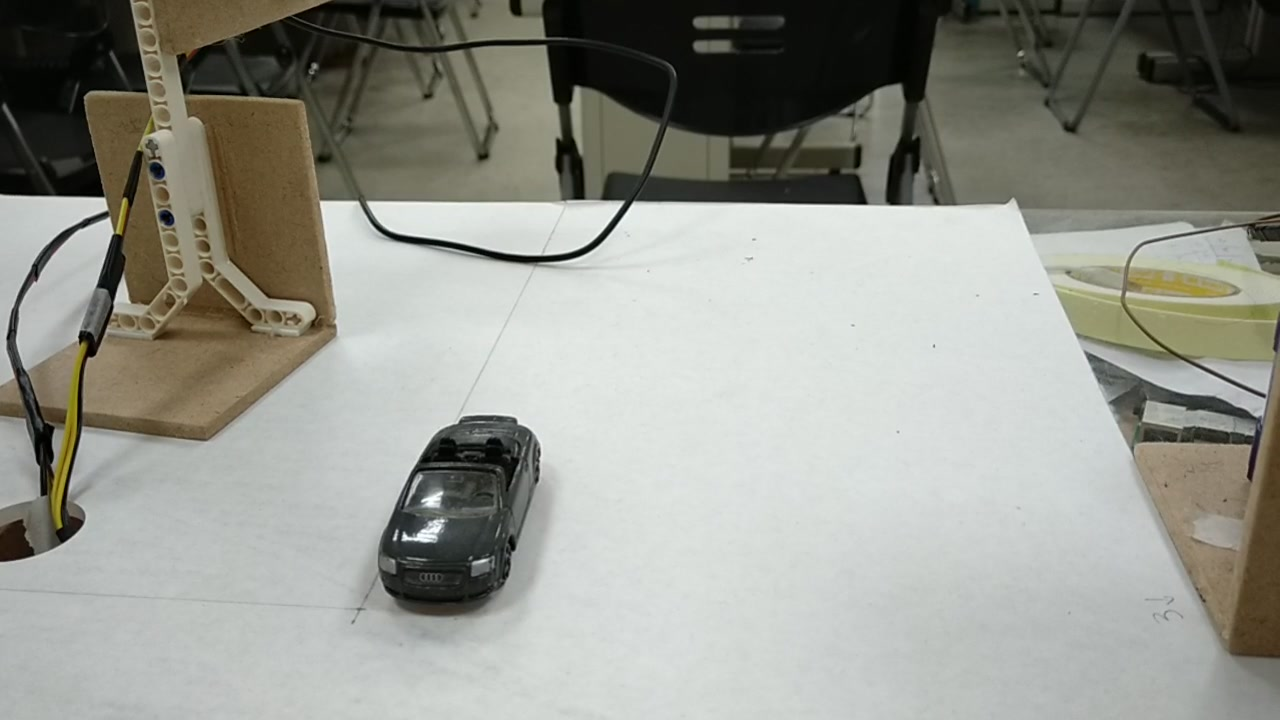car: (377, 422, 544, 604)
